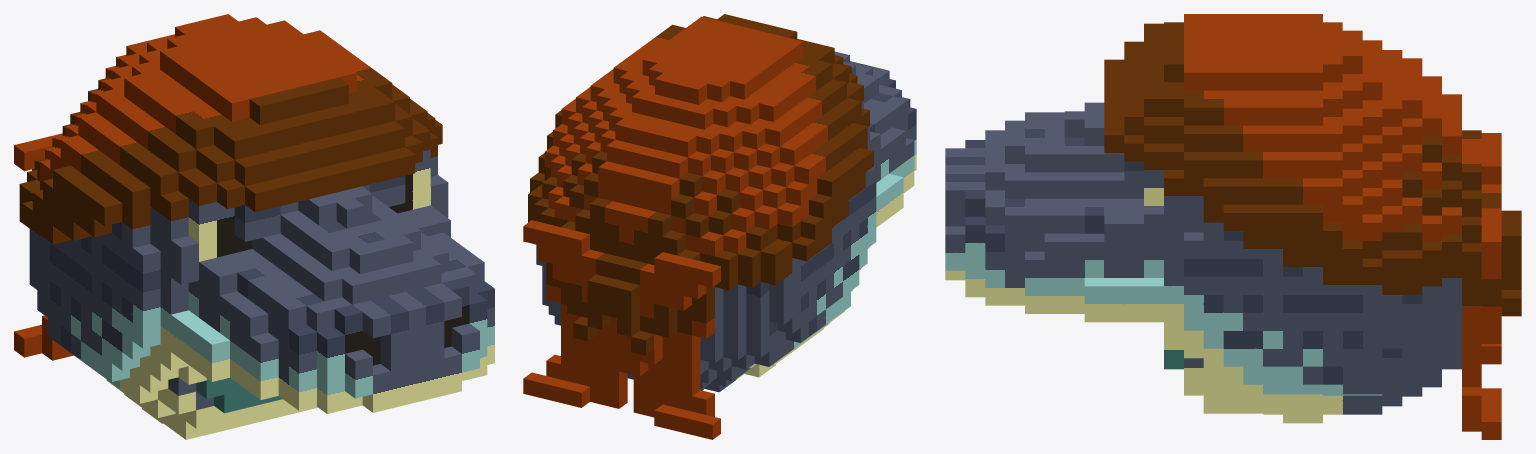
The model's file is brown durag.gltf.
3 renders of one model, left to right at view 1: azimuth 30°, elevation 25°; view 2: azimuth 150°, elevation 25°; view 3: azimuth 270°, elevation 25°, orthographic. The views are drawn at different scales.
Parts seen in each view (by area): view 1: 01_Zilla_Head_BrownDurag-Mesh; view 2: 01_Zilla_Head_BrownDurag-Mesh; view 3: 01_Zilla_Head_BrownDurag-Mesh.
Part boxes in pixels (bbox=[...]): 01_Zilla_Head_BrownDurag-Mesh: bbox=[14, 14, 494, 439]; 01_Zilla_Head_BrownDurag-Mesh: bbox=[523, 14, 916, 439]; 01_Zilla_Head_BrownDurag-Mesh: bbox=[945, 14, 1521, 439].
Bounding box in the file's own units: 19 × 19 × 29.
Materials: 1 (1 with a texture image).
